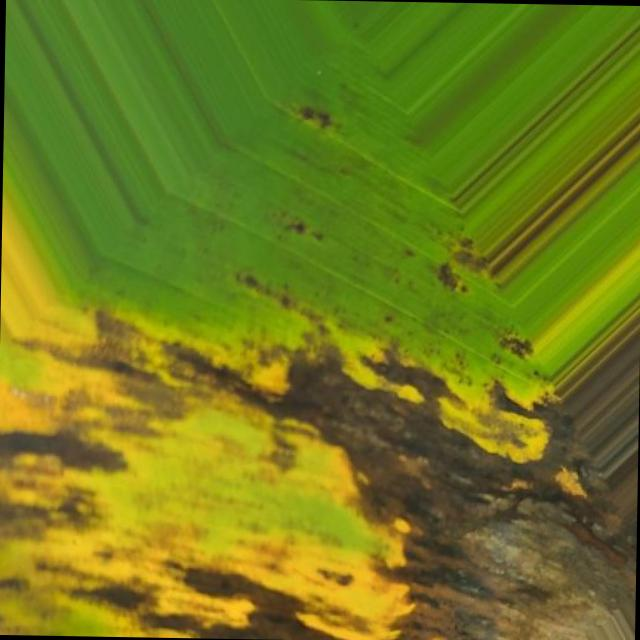Banana_Black_Sigatoka: (5, 275, 640, 640)
